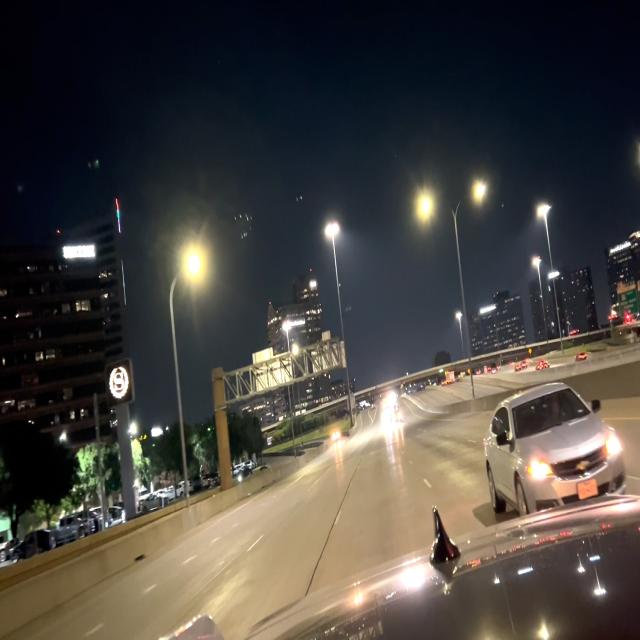back-of-sign: (252, 345, 294, 394), (310, 329, 347, 375)
